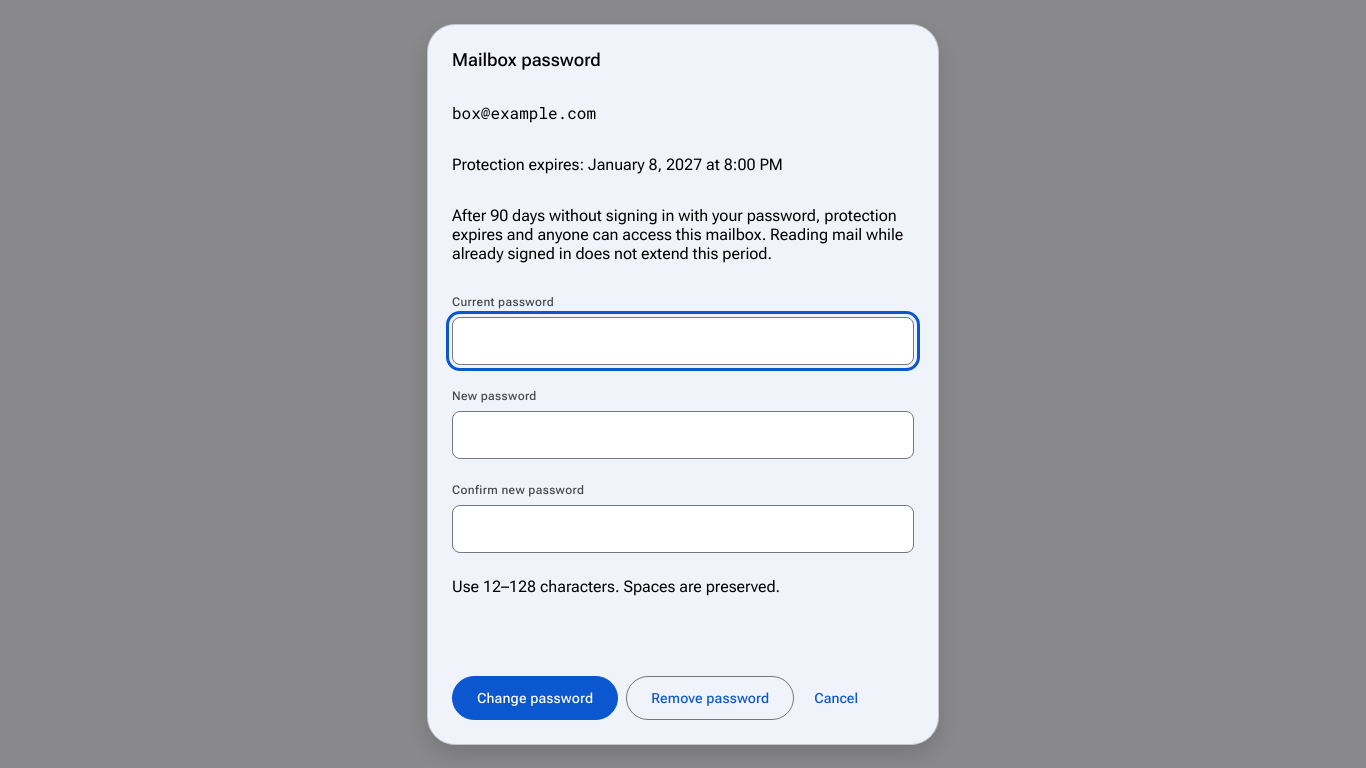
Test: requires current password for changes and reports wrong passwords without discarding the session
This screenshot has width=1366, height=768.
Type "replacement-pass" into the password field with id "mailbox-new-password" at (683, 434), box [452,410,914,458]
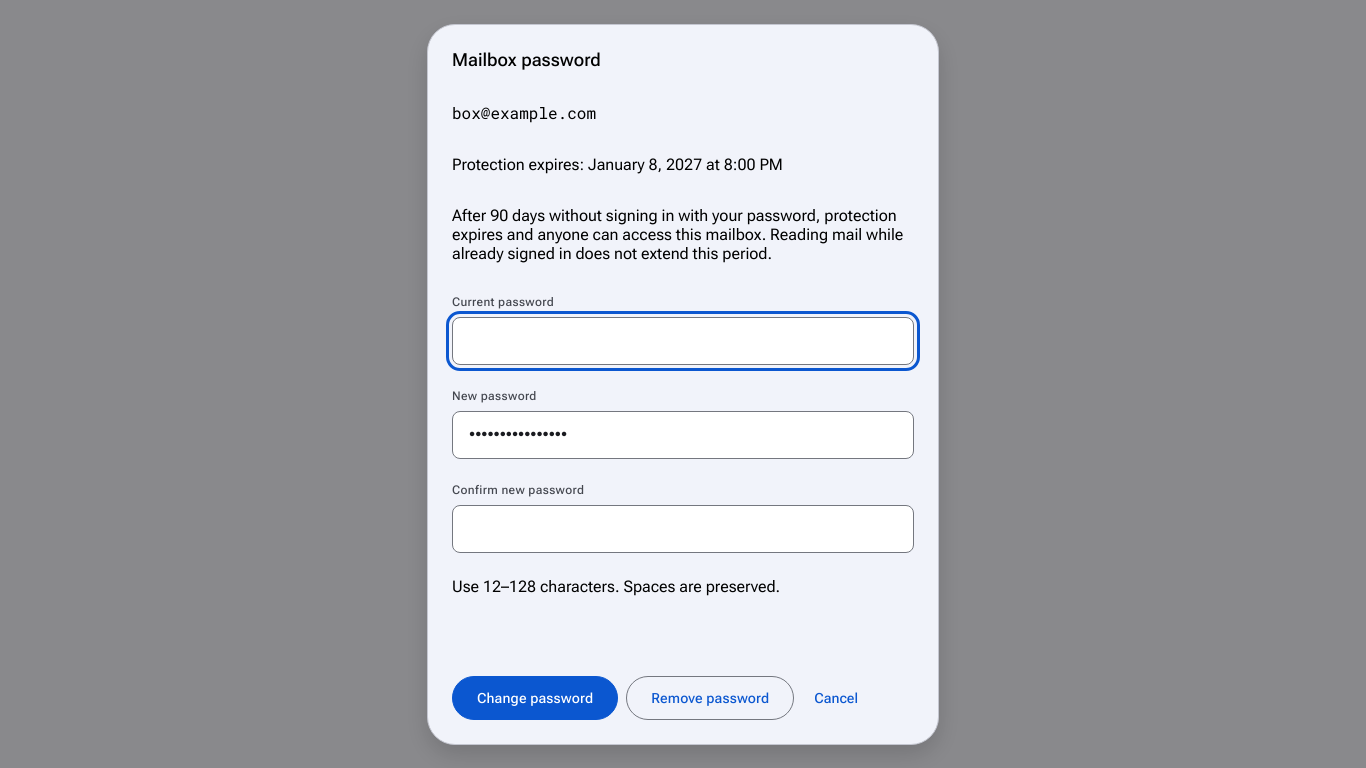
Type "replacement-pass" into the password field with id "mailbox-confirm-password" at (683, 528), box [452,504,914,552]
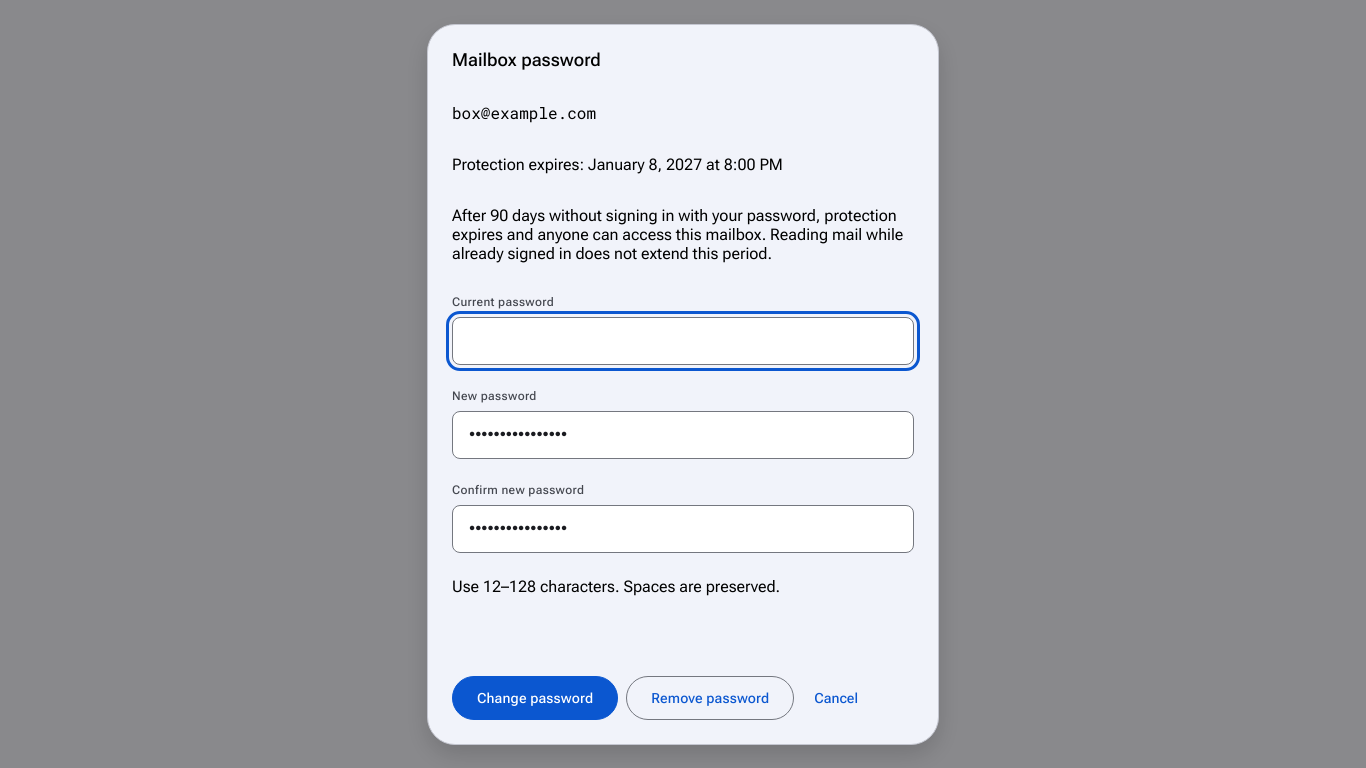
Submit the form, box [452,294,914,720]
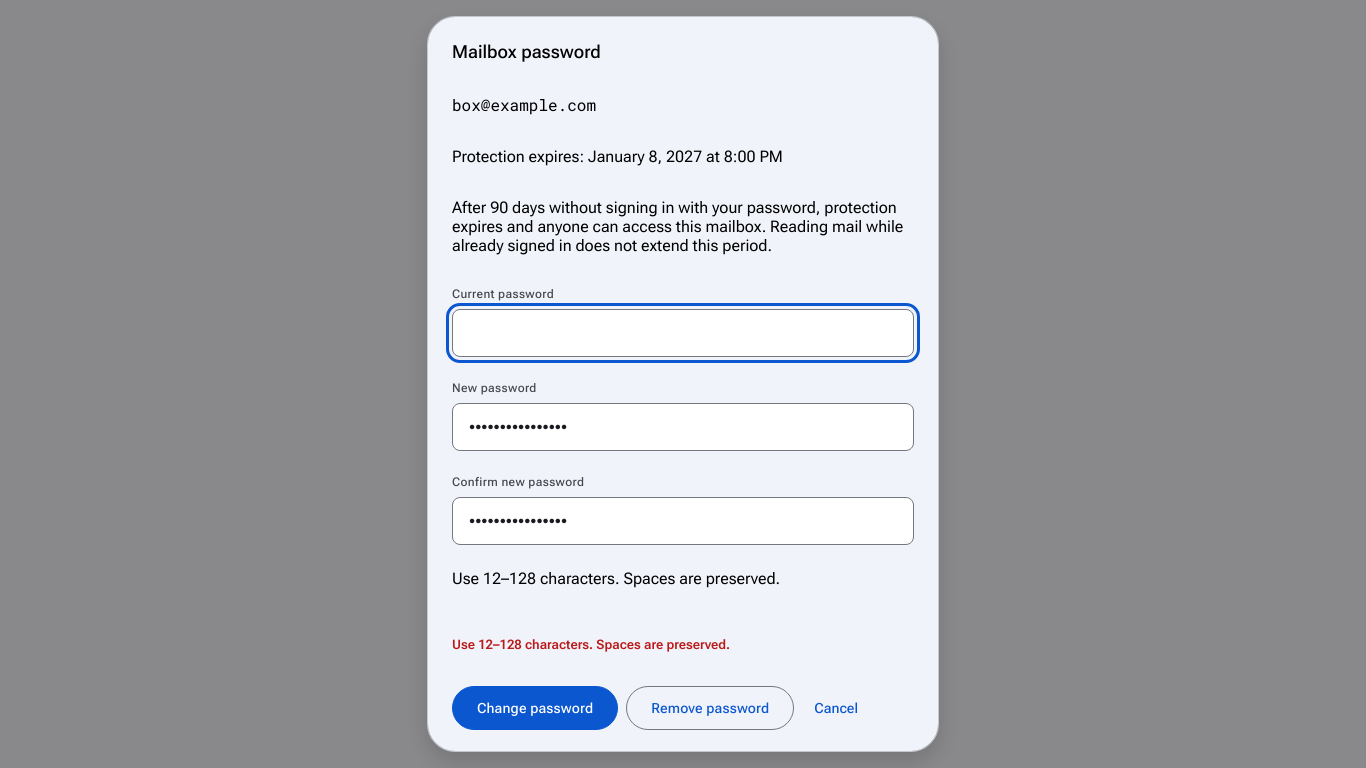
Type "wrong-password" into the password field with id "mailbox-current-password" at (683, 333), box [452,309,914,357]
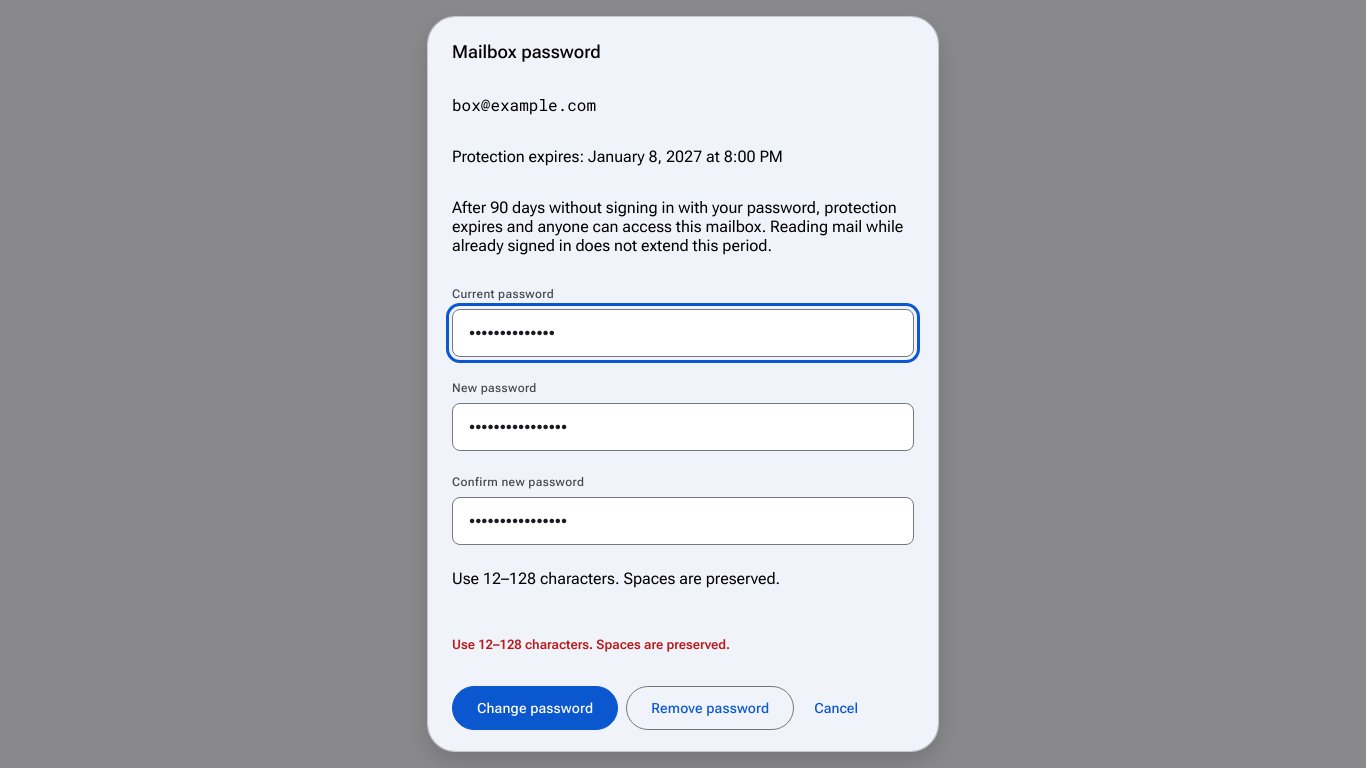
Submit the form, box [452,287,914,730]
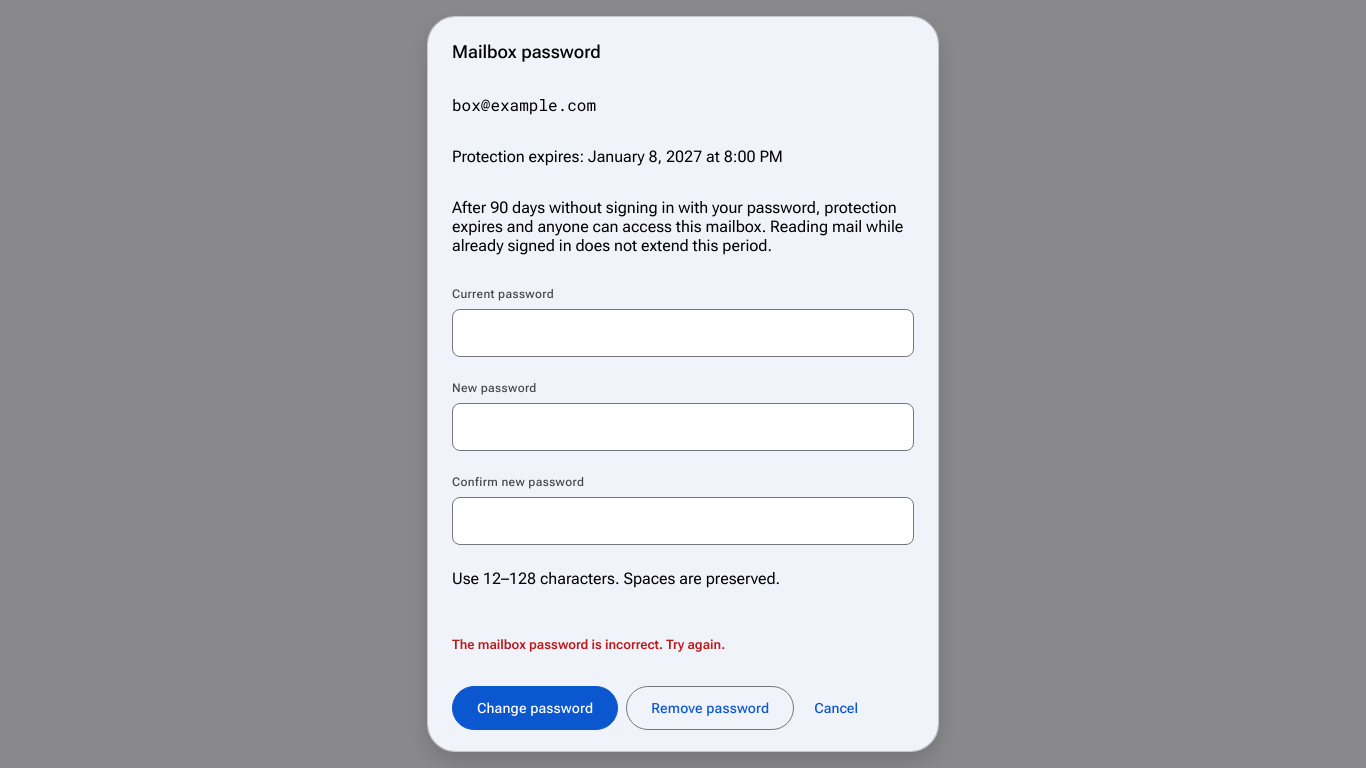
Expected: the message "The mailbox password is incorrect. Try again." is shown, [452,637,725,652]
Expected: the password field with id "mailbox-current-password" is empty, [452,309,914,357]
